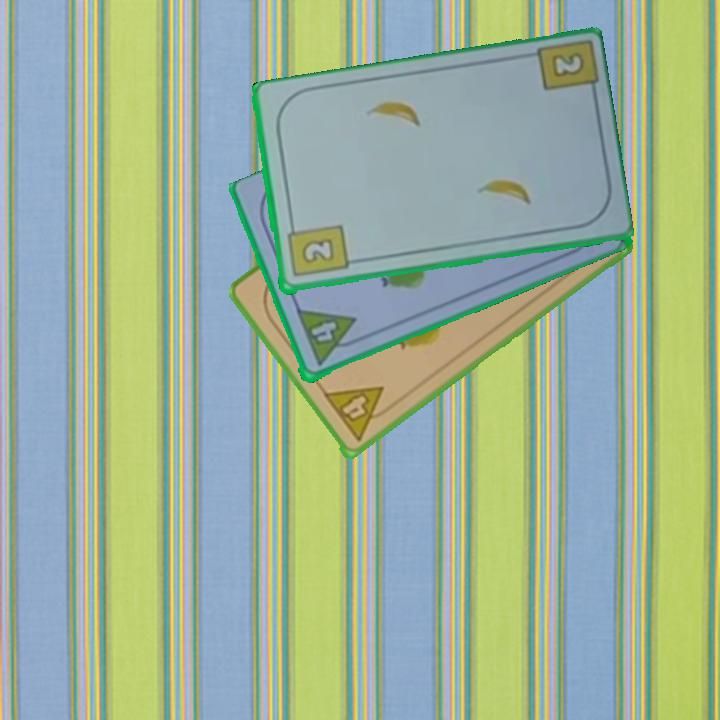2b: (283, 219, 350, 281), (547, 48, 588, 81)
4p: (319, 382, 398, 445), (292, 306, 365, 370)
